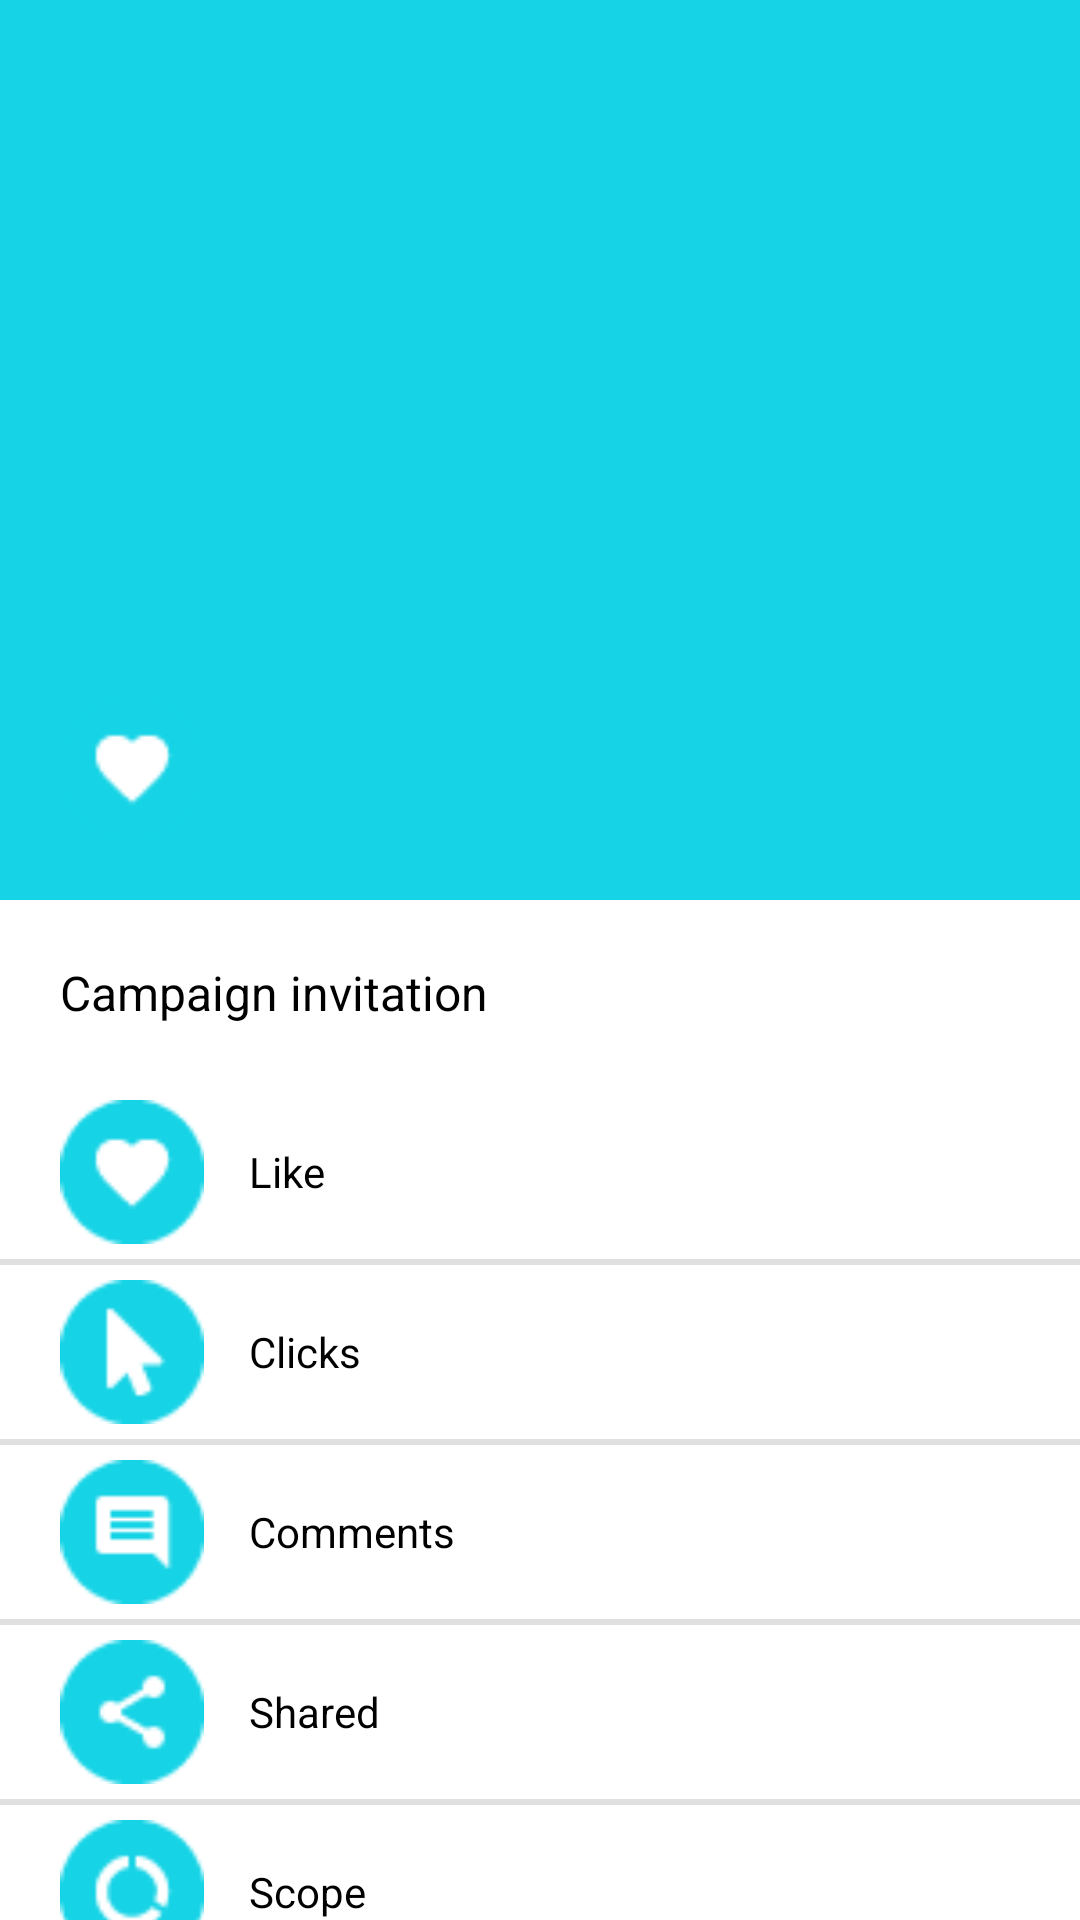

Where icons sit on this 1080w x 1920h app screen, as (x1, y1, x2, y2):
heart: (95, 734, 172, 804)
